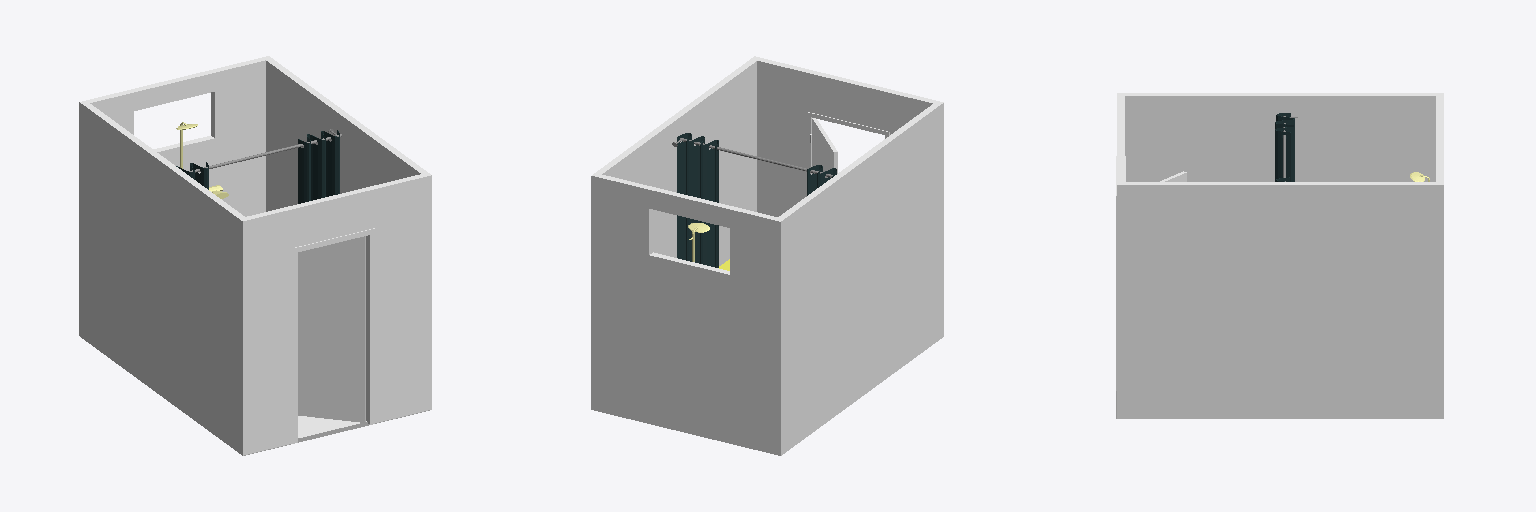
File: Baño.obj
The picture shows the model from 3 angles: view 1: azimuth 30°, elevation 25°; view 2: azimuth 150°, elevation 25°; view 3: azimuth 270°, elevation 25°; orthographic projection.
Visible parts, largest first — view 1: wall_4_22, wall_3_16, sweethome3d_opening_on_hinge_1_door_74, wall_1_5, wall_2_11, frame_66, RightCurtain_63_63, room_5_26, wall_4_24, wall_2_12; view 2: wall_1_4, wall_4_22, wall_3_17, wall_2_11, RightCurtain_63_63, sweethome3d_opening_on_hinge_1_door_74, frame_66, serviceHatch_57, wall_4_24, wall_2_12; view 3: wall_2_10, wall_4_23, LeftCurtain_64_65, wall_2_12, wall_4_25.
Part boxes in pixels (left/top/right/bottom): wall_4_22: left=79, top=102, right=242, bottom=455; wall_3_16: left=243, top=175, right=431, bottom=455; sweethome3d_opening_on_hinge_1_door_74: left=298, top=236, right=365, bottom=422; wall_1_5: left=90, top=60, right=265, bottom=216; wall_2_11: left=266, top=61, right=420, bottom=211; frame_66: left=293, top=228, right=374, bottom=443; RightCurtain_63_63: left=298, top=130, right=339, bottom=203; room_5_26: left=298, top=416, right=366, bottom=437; wall_4_24: left=80, top=102, right=243, bottom=220; wall_2_12: left=268, top=56, right=430, bottom=174; wall_1_4: left=591, top=176, right=780, bottom=455; wall_4_22: left=781, top=103, right=943, bottom=455; wall_3_17: left=757, top=61, right=932, bottom=216; wall_2_11: left=602, top=61, right=756, bottom=265; RightCurtain_63_63: left=677, top=133, right=718, bottom=267; sweethome3d_opening_on_hinge_1_door_74: left=812, top=118, right=837, bottom=177; frame_66: left=807, top=112, right=889, bottom=174; serviceHatch_57: left=649, top=209, right=730, bottom=274; wall_4_24: left=780, top=102, right=943, bottom=220; wall_2_12: left=593, top=56, right=755, bottom=174; wall_2_10: left=1117, top=185, right=1443, bottom=418; wall_4_23: left=1125, top=96, right=1435, bottom=181; LeftCurtain_64_65: left=1275, top=113, right=1294, bottom=181; wall_2_12: left=1119, top=183, right=1441, bottom=184; wall_4_25: left=1122, top=94, right=1438, bottom=95.
Bounding box in the file's own units: 212 × 250 × 317.